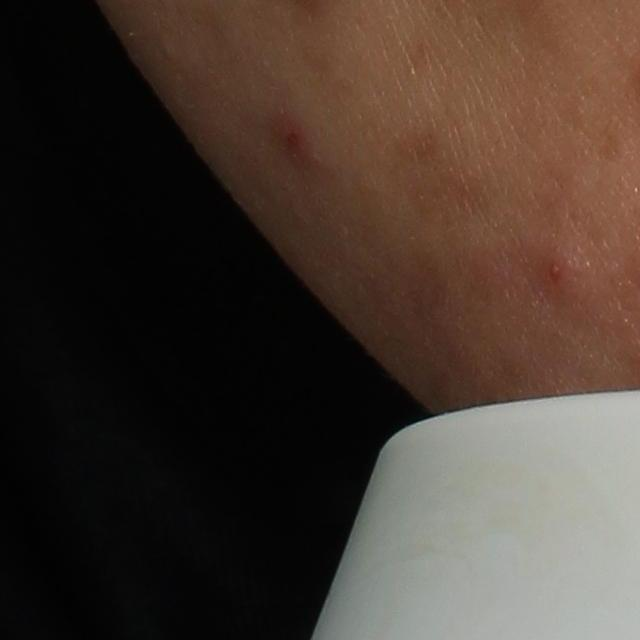papule: (519, 243, 579, 317), (268, 115, 317, 165)
